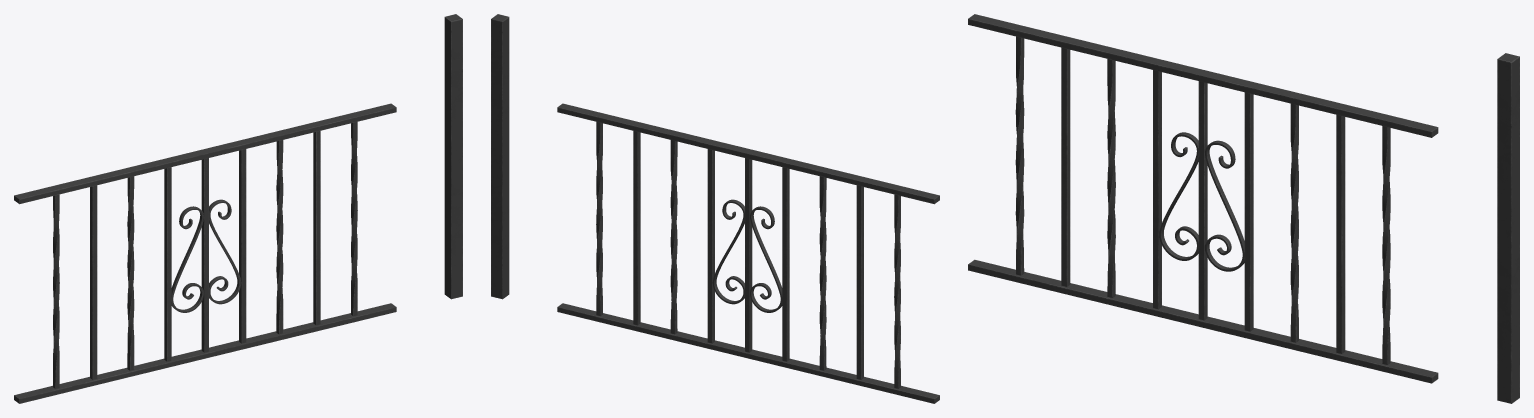
3 renders of one model, left to right at view 1: azimuth 30°, elevation 25°; view 2: azimuth 150°, elevation 25°; view 3: azimuth 330°, elevation 25°, orthographic. The views are drawn at different scales.
Visible parts, largest first — view 1: Metal Railing Main, Metal Railing Post; view 2: Metal Railing Main, Metal Railing Post; view 3: Metal Railing Main, Metal Railing Post.
Boxes of the visible parts, x1,y1,x2,y2 form: Metal Railing Main: (14, 103, 396, 403); Metal Railing Post: (444, 14, 462, 299); Metal Railing Main: (557, 103, 939, 403); Metal Railing Post: (491, 14, 509, 299); Metal Railing Main: (968, 14, 1438, 383); Metal Railing Post: (1497, 53, 1519, 403).
Size of the model in its own units: 1.78 by 1.07 by 0.0469.
Materials: 1 (1 with a texture image).
